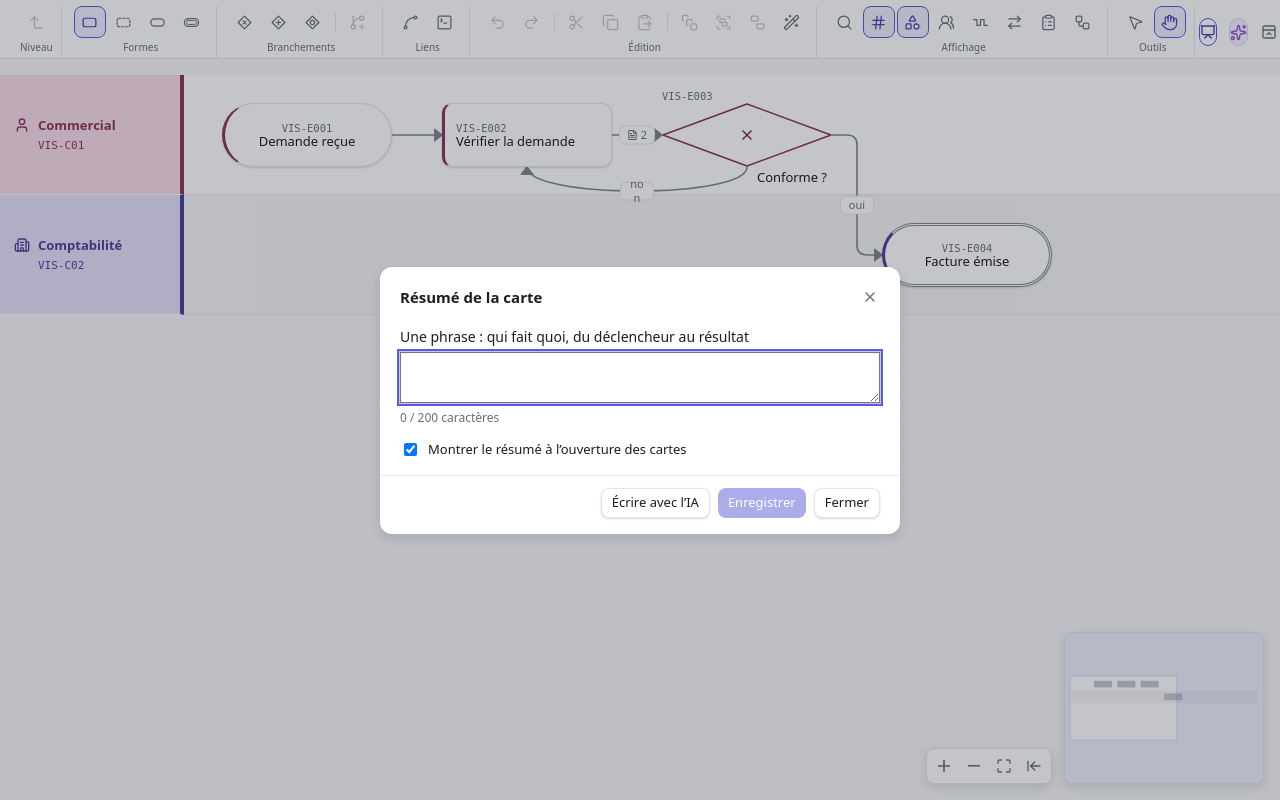
the panel of the summary (plan 3.1, lot R) › opens a map without summary on the field to write it, sent with the version 0 of a summary never read
Expected: the button with test id "summary-save" is disabled, [718,488,806,518]
Step 1. Type "Le commercial reçoit la demande, la vérifie et envoie le devis au client." into the text box with test id "summary-draft" → (640, 377), box [400,352,880,402]
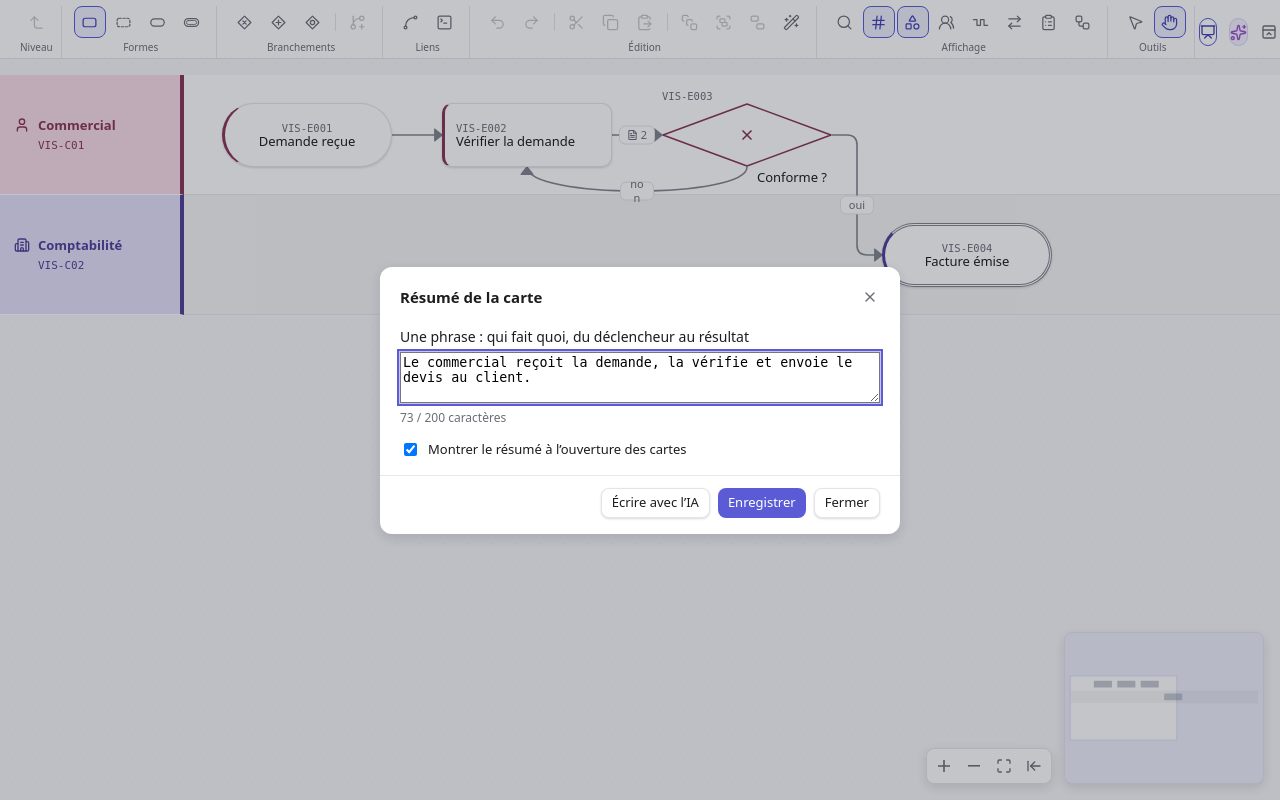
Step 2. Click the button with test id "summary-save" → (762, 502), box [718,488,806,518]
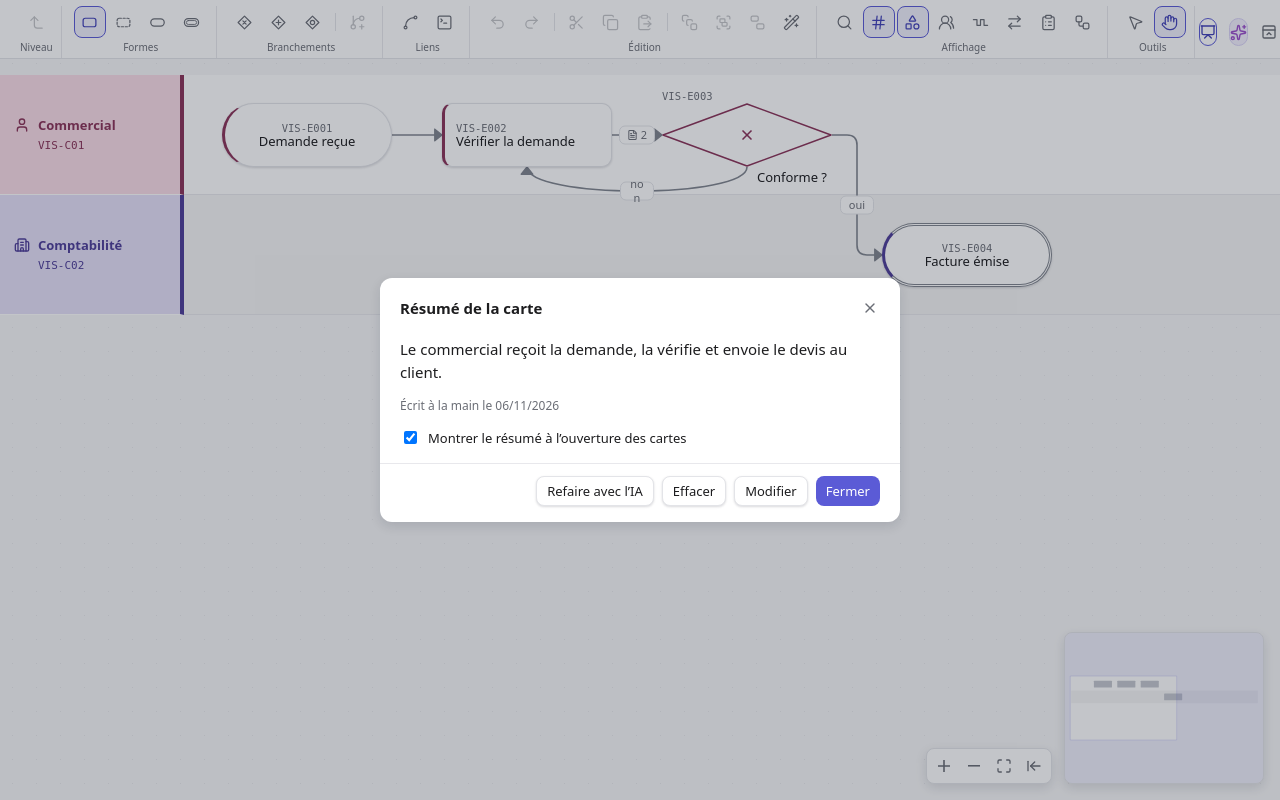
Now the text with test id "summary-text" reads "Le commercial reçoit la demande, la vérifie et envoie le devis au client.", box [400,339,847,382]
